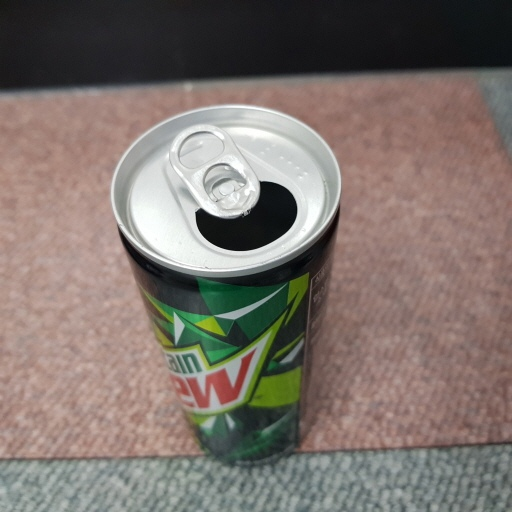Metal_0: (108, 106, 345, 465)
